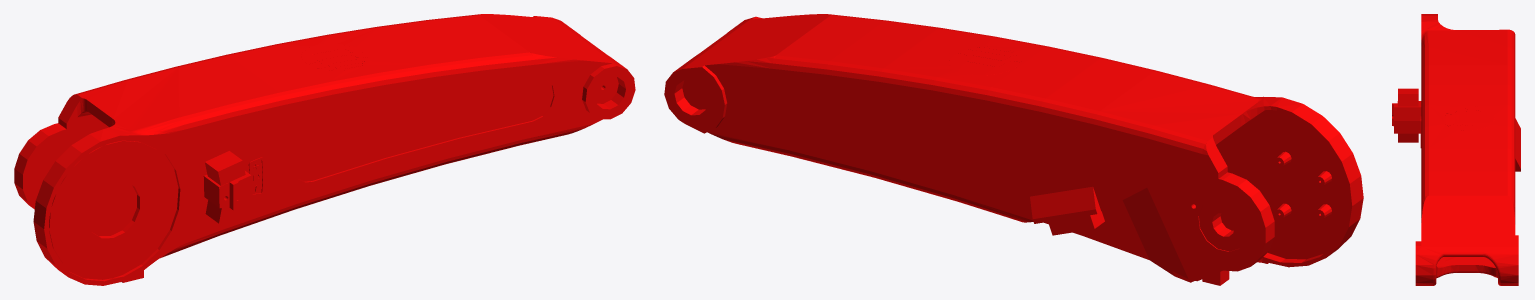
3 views of the same model, side by side, from view 1: azimuth 30°, elevation 25°; view 2: azimuth 150°, elevation 25°; view 3: azimuth 270°, elevation 25° (orthographic). The views are drawn at different scales.
Visible parts, largest first — view 1: link_2; view 2: link_2; view 3: link_2.
Boxes of the visible parts, left/top/right/bottom form: link_2: left=14, top=14, right=635, bottom=285; link_2: left=664, top=14, right=1363, bottom=285; link_2: left=1392, top=14, right=1520, bottom=285.
Bounding box in the file's own units: 1.4 × 0.338 × 0.343.
